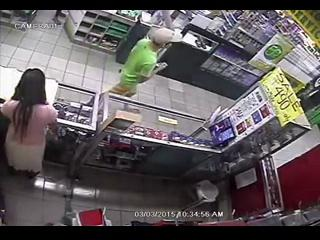Normal: (1, 68, 58, 183), (109, 27, 179, 97)
